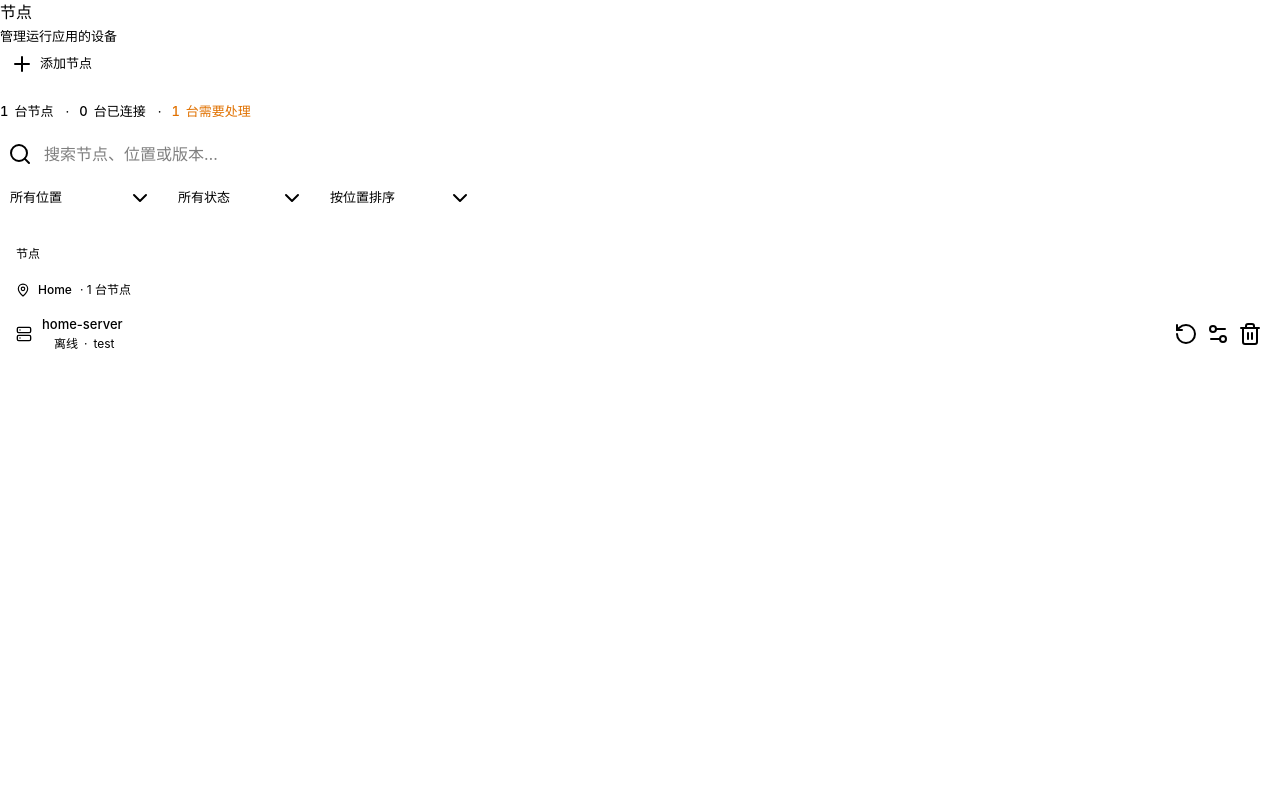
Test: node reinstall review › requests final server verification and keeps the sheet open on rejection
The width and height of the screenshot is (1280, 800).
Click the button named "重新接入 home-server" at (1186, 334), box [1172,320,1200,348]
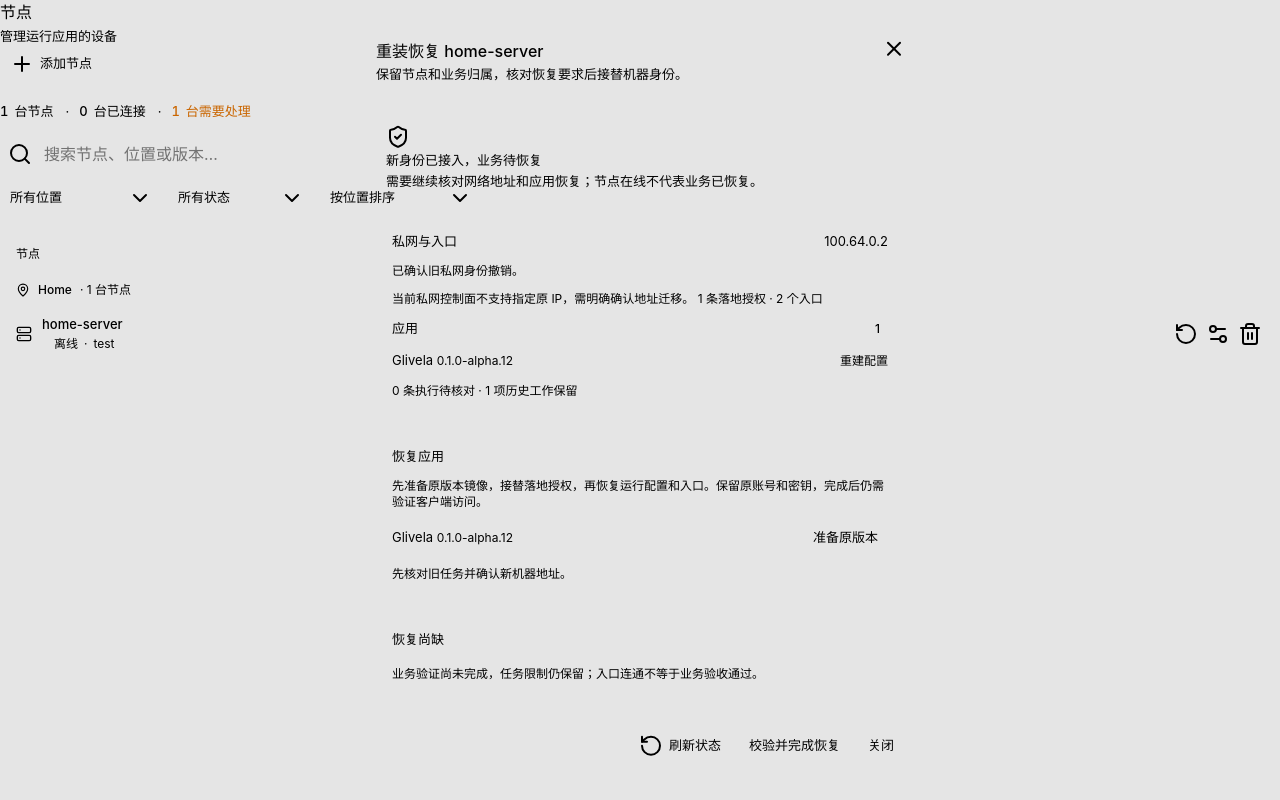
Click the button "校验并完成恢复" at (794, 745), box [739,729,850,761]
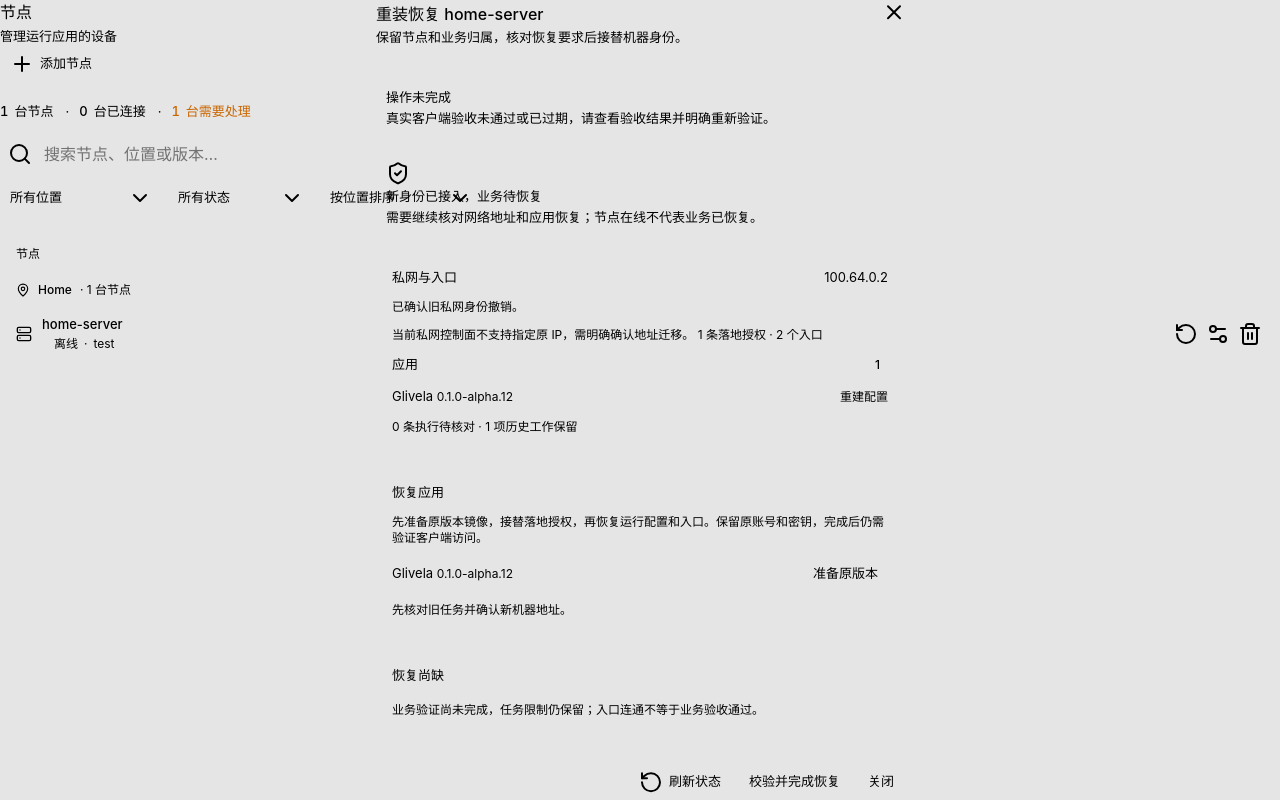
Check: the button "校验并完成恢复" is shown, box [739,766,850,798]
Check: the text "真实客户端验收未通过或已过期" is shown, box [386,110,776,126]
